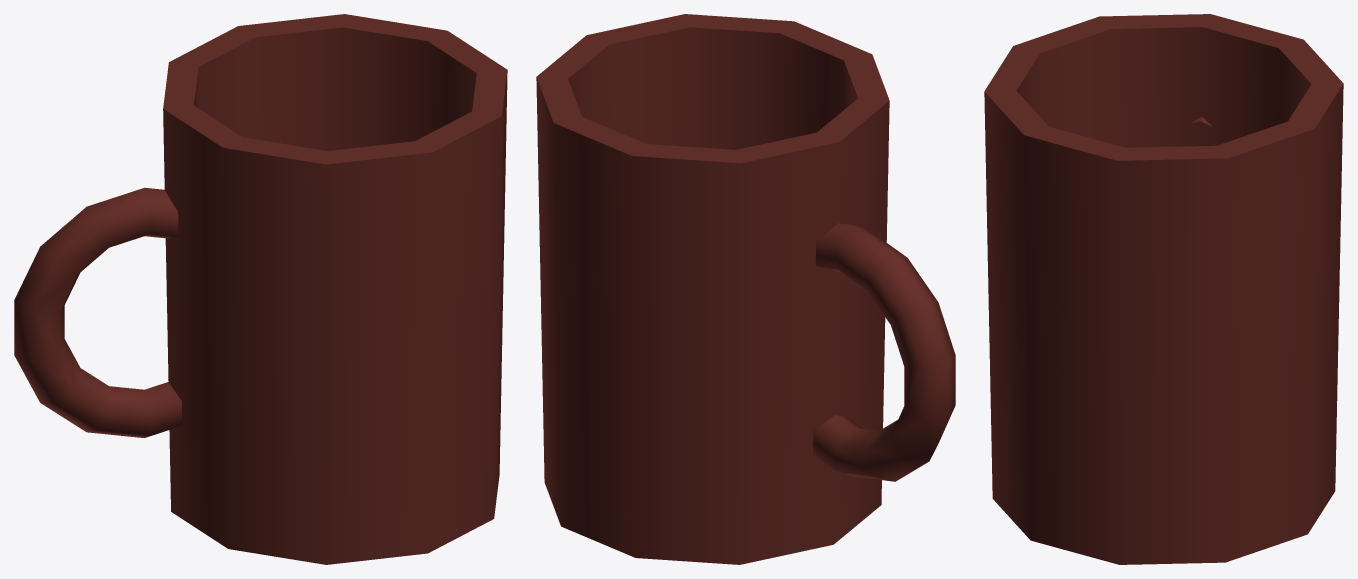
File: Mug.fbx
The picture shows the model from 3 angles, left to right: view 1: azimuth 30°, elevation 25°; view 2: azimuth 150°, elevation 25°; view 3: azimuth 270°, elevation 25°; orthographic projection.
Visible parts, largest first — view 1: mug; view 2: mug; view 3: mug.
Boxes of the visible parts, left/top/right/bottom form: mug: left=14, top=14, right=507, bottom=564; mug: left=536, top=14, right=955, bottom=564; mug: left=984, top=14, right=1343, bottom=564.
Bounding box in the file's own units: 11.06 × 10 × 7.99.
